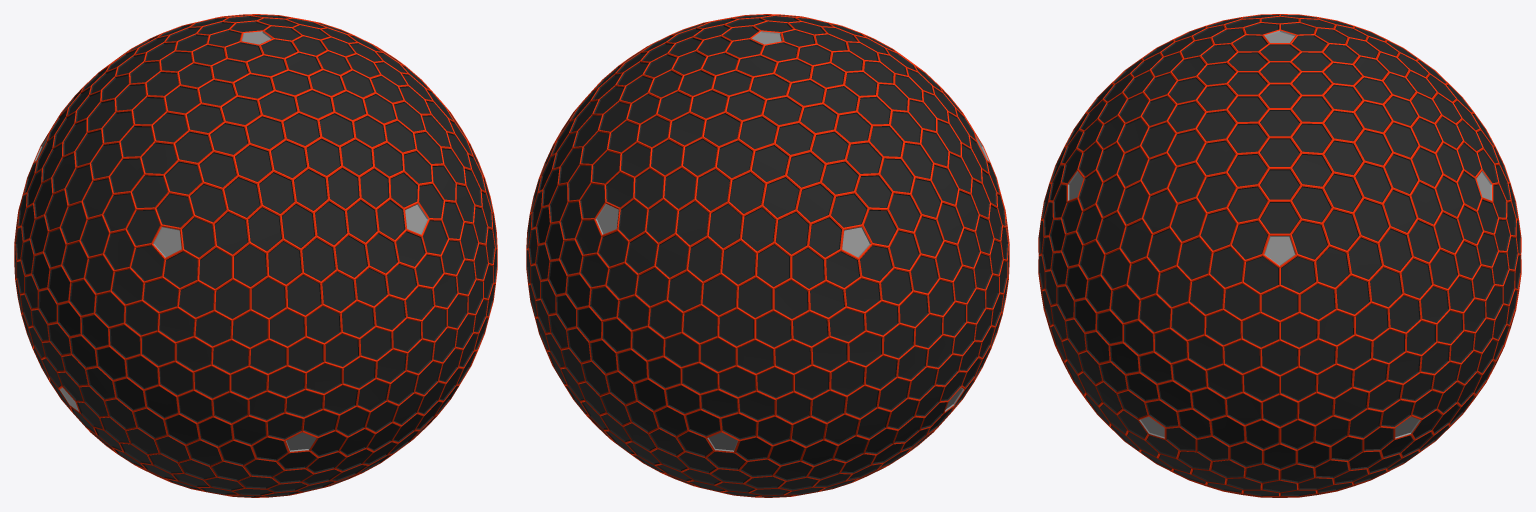
File: HexSphere2.FBX
3 views of the same model, side by side, from view 1: azimuth 30°, elevation 25°; view 2: azimuth 150°, elevation 25°; view 3: azimuth 270°, elevation 25° (orthographic).
Visible parts, largest first — view 1: GeoSphere002; view 2: GeoSphere002; view 3: GeoSphere002.
Boxes of the visible parts, box(x1,y1,x2,y2) form: GeoSphere002: box(14, 14, 497, 497); GeoSphere002: box(526, 14, 1009, 497); GeoSphere002: box(1038, 14, 1521, 497).
Size of the model in its own units: 199 by 199 by 199.
